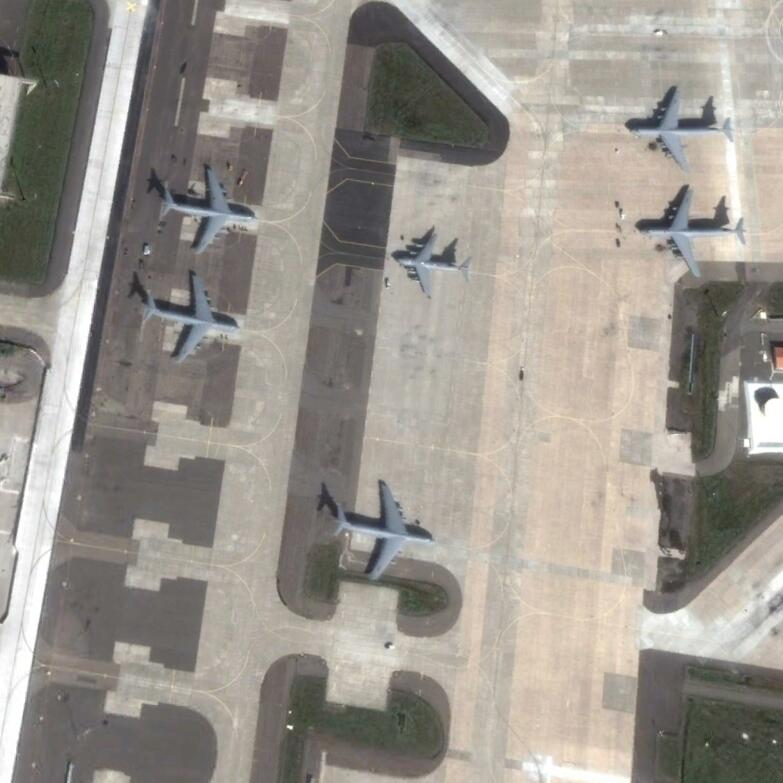A3: (389, 228, 475, 299)
A4: (331, 479, 435, 584), (637, 185, 745, 279), (158, 166, 265, 257), (631, 85, 734, 174), (145, 272, 242, 364)
